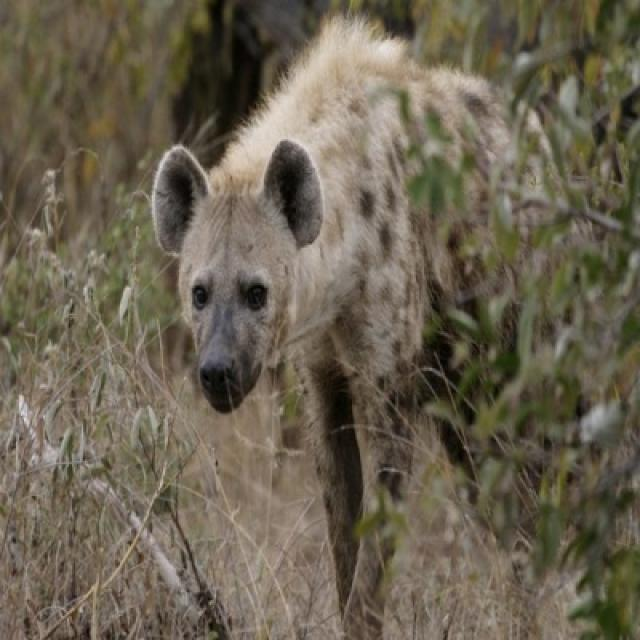hyena: (150, 14, 515, 638)
